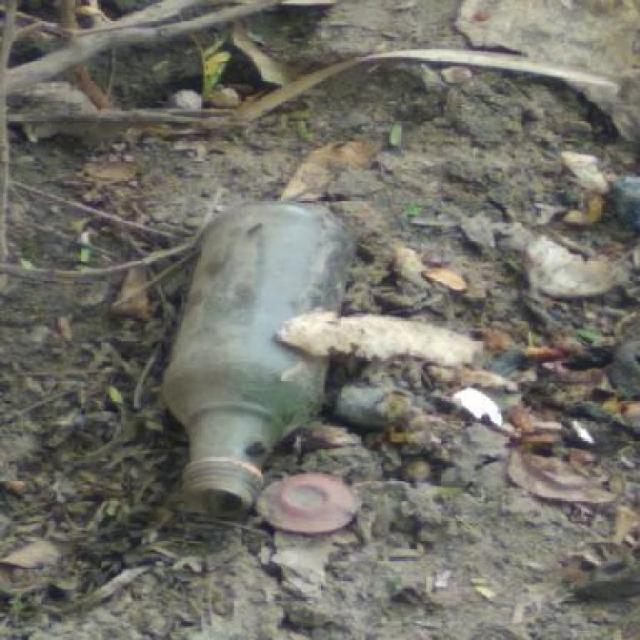garbage: (85, 168, 536, 576)
